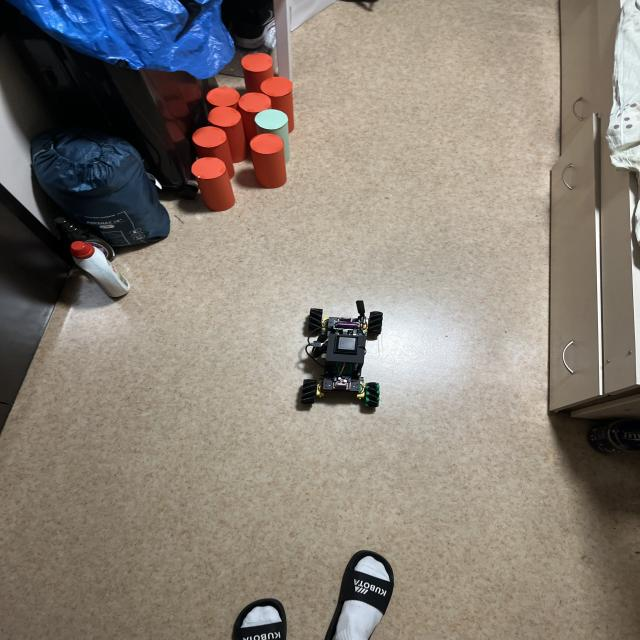robot: (301, 301, 383, 407)
